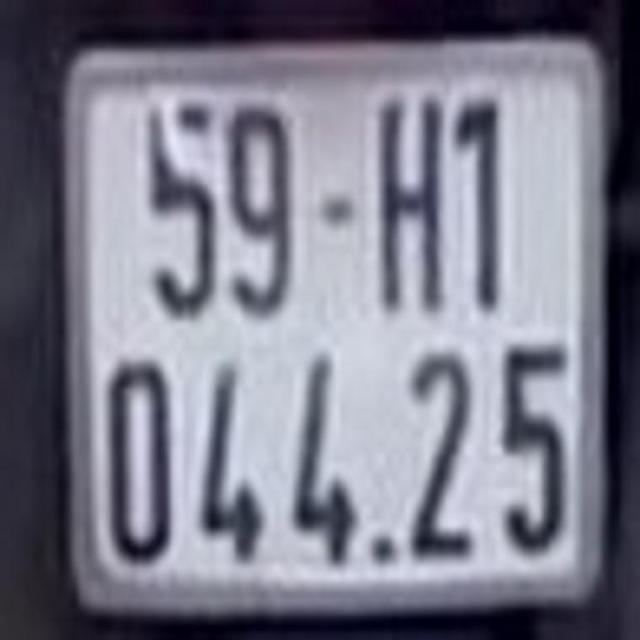0: (104, 360, 172, 561)
1: (454, 102, 510, 310)
2: (406, 347, 476, 551)
4: (294, 350, 357, 564), (198, 363, 262, 559)
5: (150, 103, 221, 314), (500, 344, 568, 553)
9: (223, 106, 298, 317)
H: (368, 100, 452, 306)
